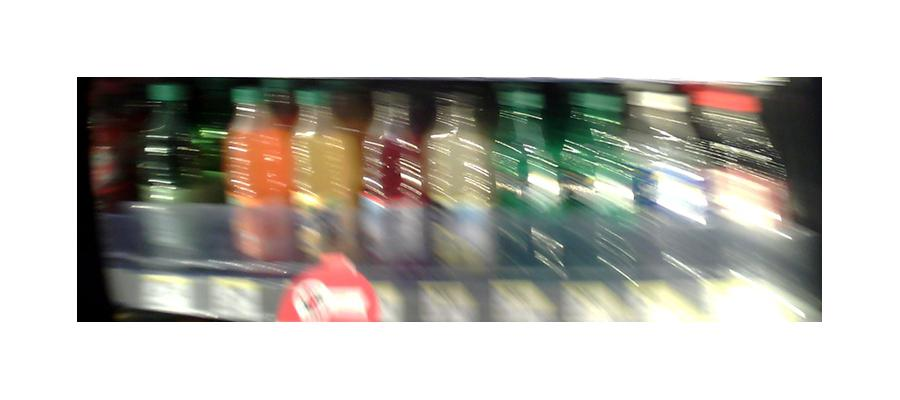bottle: (495, 84, 563, 293), (222, 90, 296, 264), (425, 89, 490, 283), (355, 96, 426, 273), (290, 98, 354, 271)
